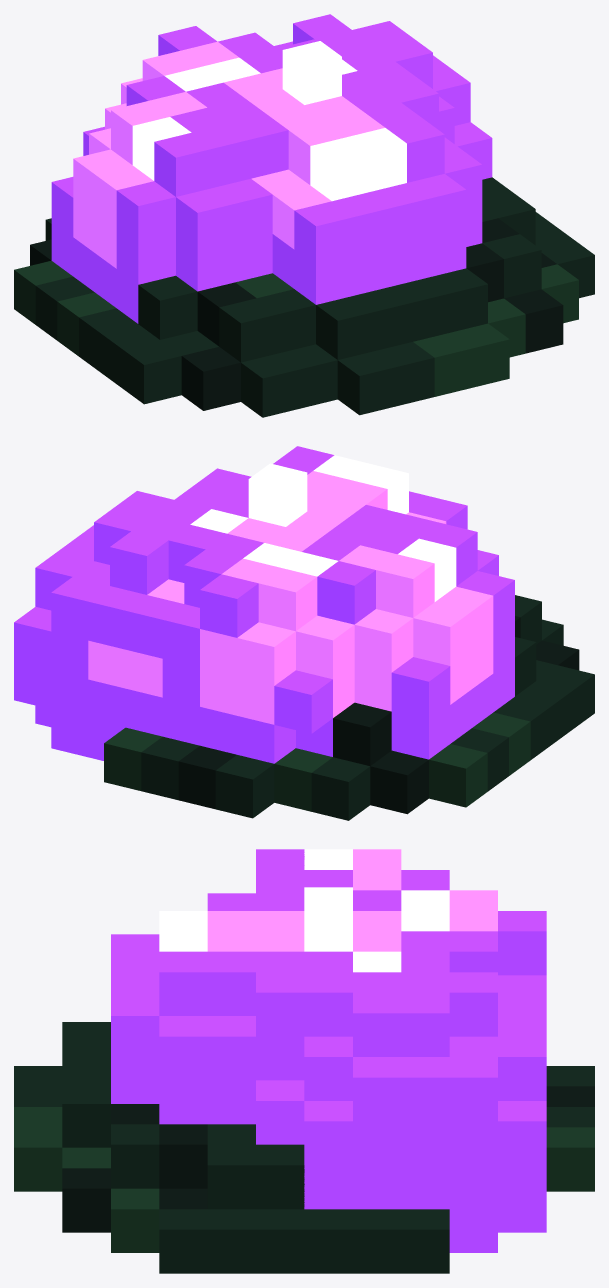
Rendered from moss_clump_violet.glb.
3 views of the same model, one above another, from view 1: azimuth 30°, elevation 25°; view 2: azimuth 150°, elevation 25°; view 3: azimuth 270°, elevation 25° (orthographic). The views are drawn at different scales.
Parts seen in each view (by area): view 1: moss; view 2: moss; view 3: moss.
Boxes of the visible parts, x1,y1,x2,y2 form: moss: [14, 14, 594, 417]; moss: [14, 446, 594, 820]; moss: [14, 849, 594, 1273].
Bounding box in the file's own units: 0.75 × 0.375 × 0.75.
1 material, 1 textured.
